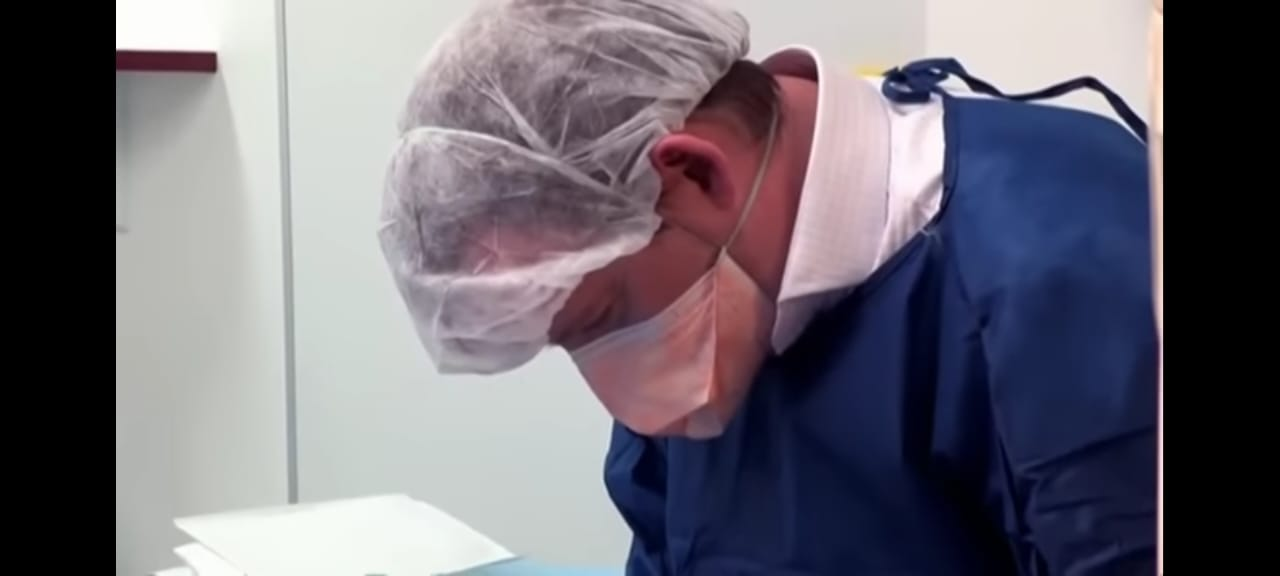doctor: (357, 1, 1160, 576)
